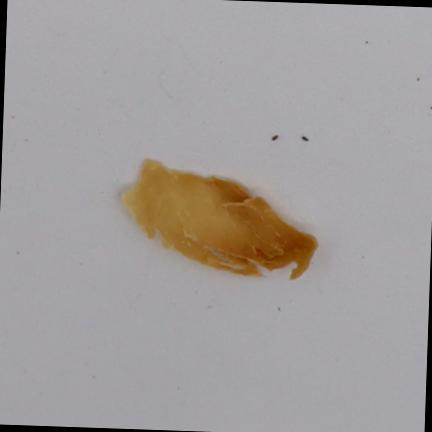parchment: (123, 159, 317, 278)
